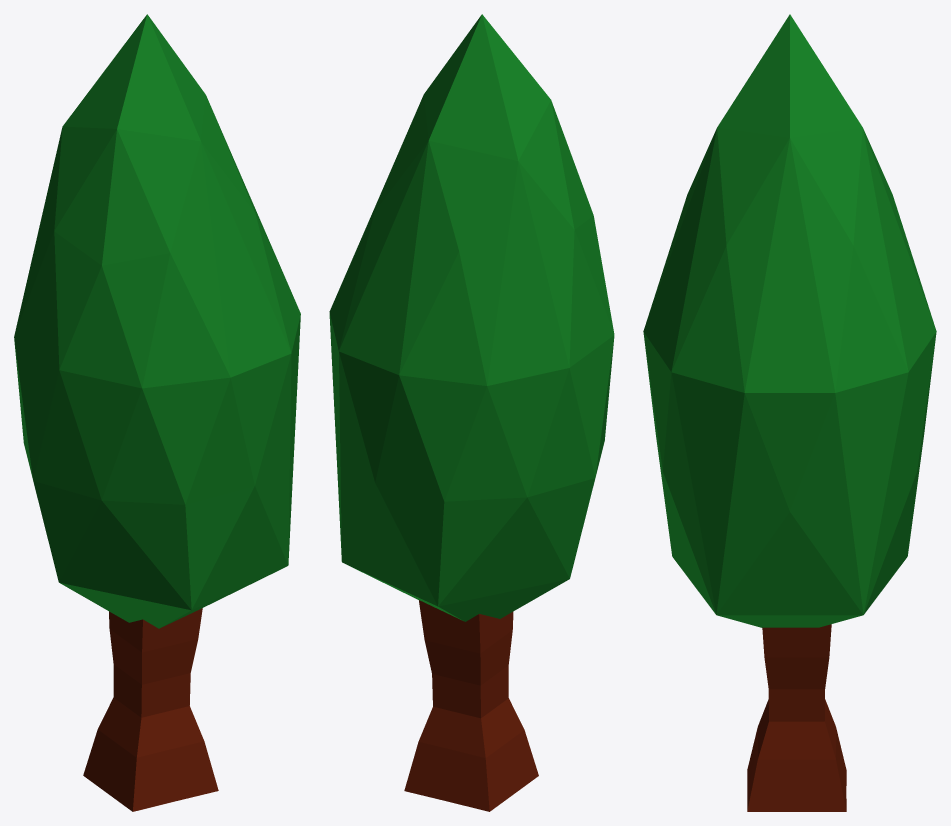
File: cypress.fbx
3 views of the same model, side by side, from view 1: azimuth 30°, elevation 25°; view 2: azimuth 150°, elevation 25°; view 3: azimuth 270°, elevation 25° (orthographic).
Parts seen in each view (by area): view 1: Icosphere, Cube; view 2: Icosphere, Cube; view 3: Icosphere, Cube.
Part boxes in pixels (<box>): Icosphere: <box>14,14,300,628</box>; Cube: <box>83,608,218,811</box>; Icosphere: <box>329,14,614,621</box>; Cube: <box>404,600,538,811</box>; Icosphere: <box>643,14,936,627</box>; Cube: <box>747,624,846,811</box>.
Bounding box in the file's own units: 204 × 616 × 212.
